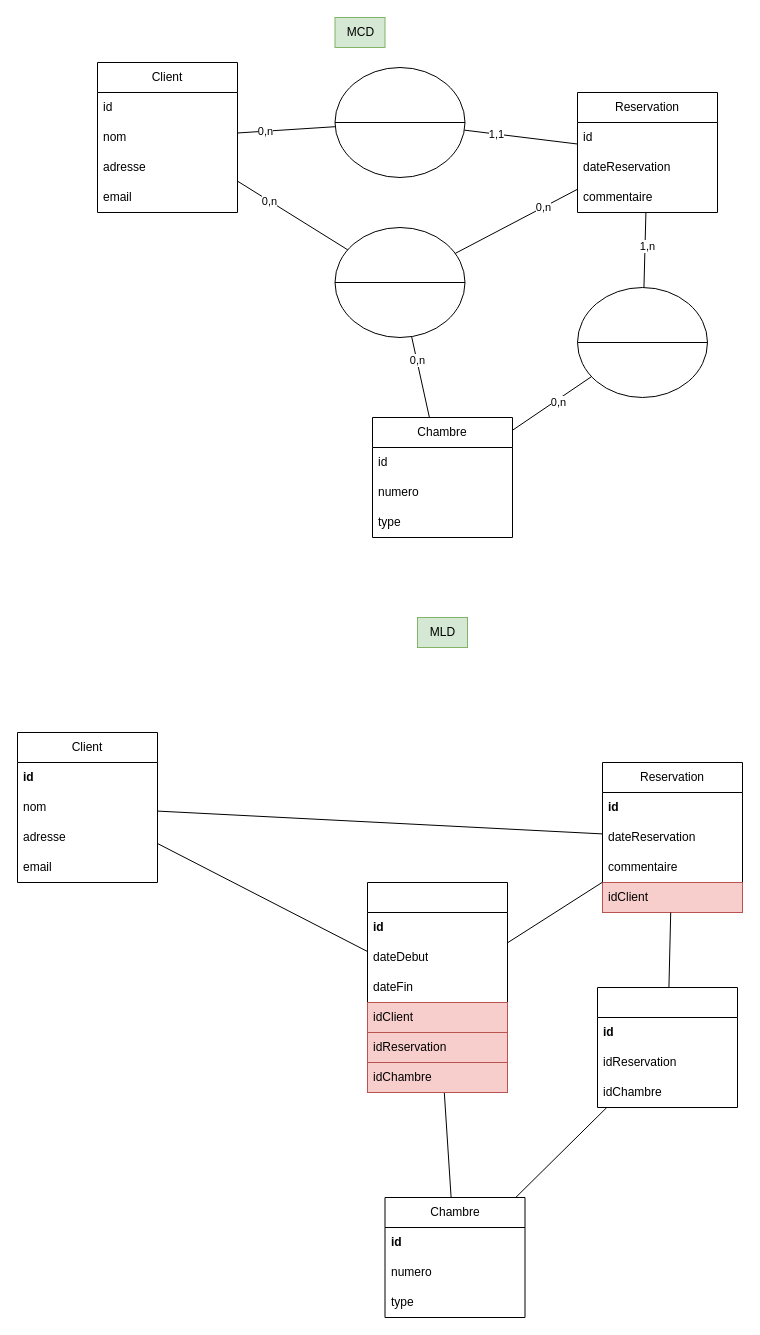
The diagram is 760 pixels wide and 1335 high, and some of its shapes have lost their labels. The shapes that lost their labels are listed below. From the top down, each one's box as (x1, y1, x2, y2) in pixels, then its label:
(334, 66, 465, 178): fait
(334, 226, 465, 338): loge dateDebut dateFin
(576, 286, 708, 398): contient
(366, 882, 508, 1092): Occupation
(596, 986, 738, 1108): DetailReservation
